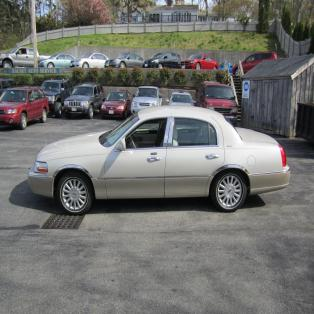Auto: (28, 104, 290, 218)
